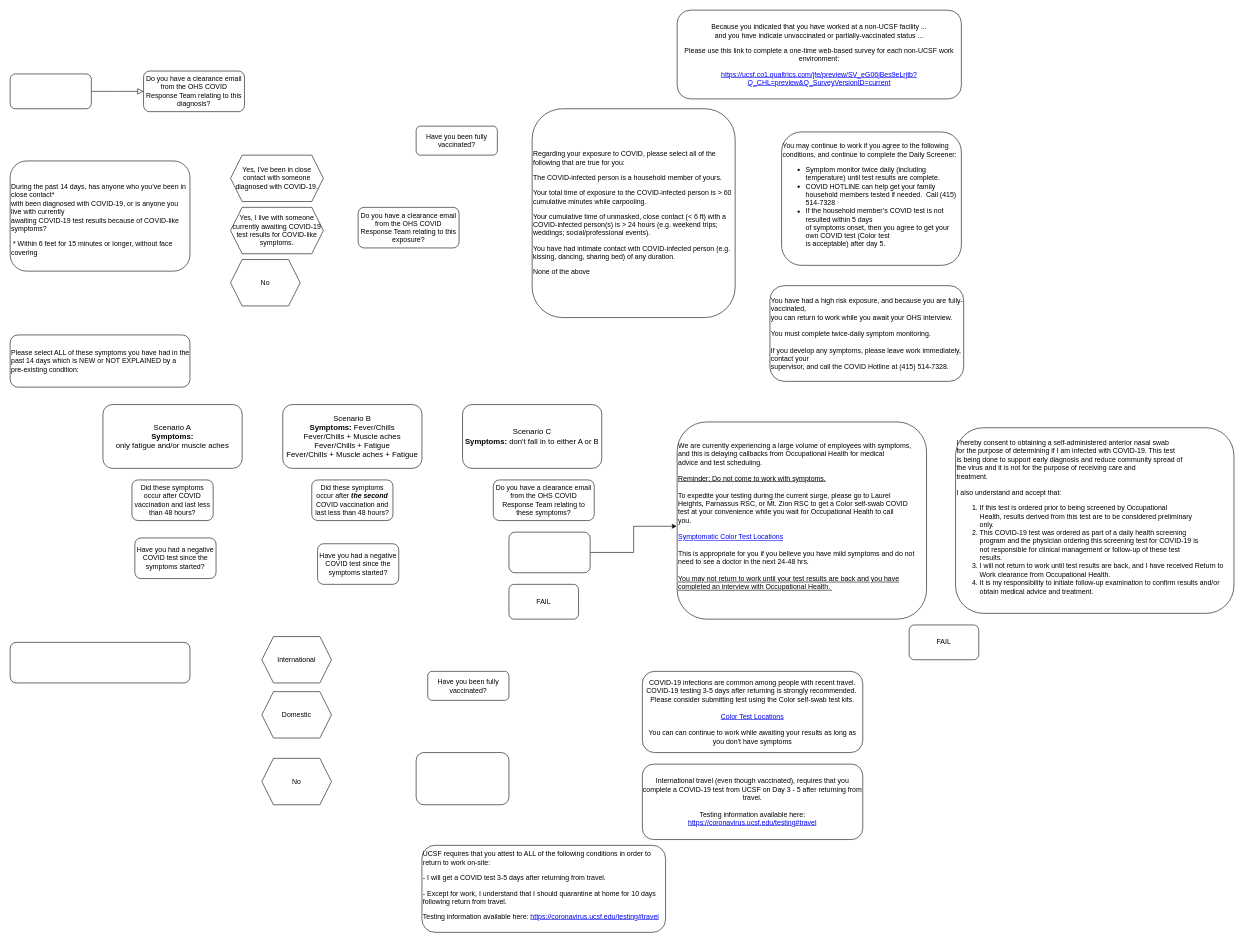
Some shapes in this 1244 by 943 pixel diagram are drawn without their labels. The centre of each missing label's shape, as x and y in pixels:
Have you had a COVID test since the symptoms started?: the point at 549,552
Have you had a negative COVID-19 test since returning from travel?: the point at 462,778
In the last 20 days, have you been diagnosed with COVID-19?: the point at 50,91
In the past 10 days, have you returned from travel outside California?: the point at 100,662
